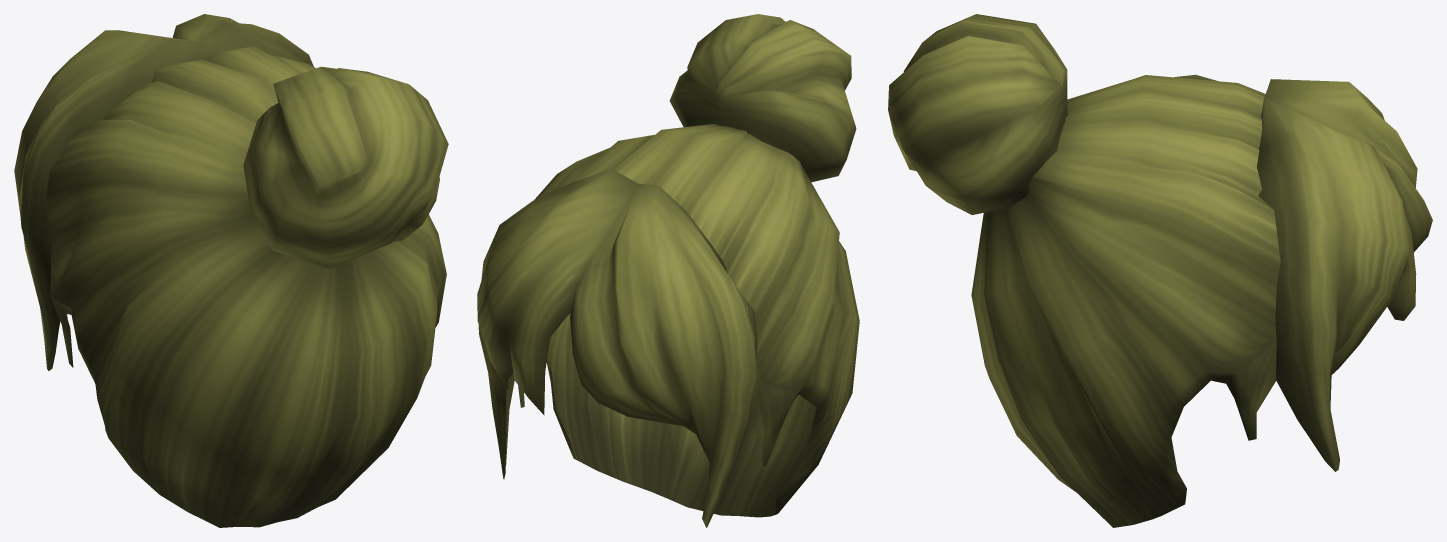
Rendered from Hair_Female_005_textured_yellow.glb.
The picture shows the model from 3 angles, left to right: view 1: azimuth 30°, elevation 25°; view 2: azimuth 150°, elevation 25°; view 3: azimuth 270°, elevation 25°; orthographic projection. The views are drawn at different scales.
Parts seen in each view (by area): view 1: Hair_Female_005; view 2: Hair_Female_005; view 3: Hair_Female_005.
Boxes of the visible parts, x1,y1,x2,y2 form: Hair_Female_005: (14,14,448,527); Hair_Female_005: (477,14,859,527); Hair_Female_005: (888,14,1432,527).
Size of the model in its own units: 0.1944 by 0.2737 by 0.2809.
1 material, 1 textured.
